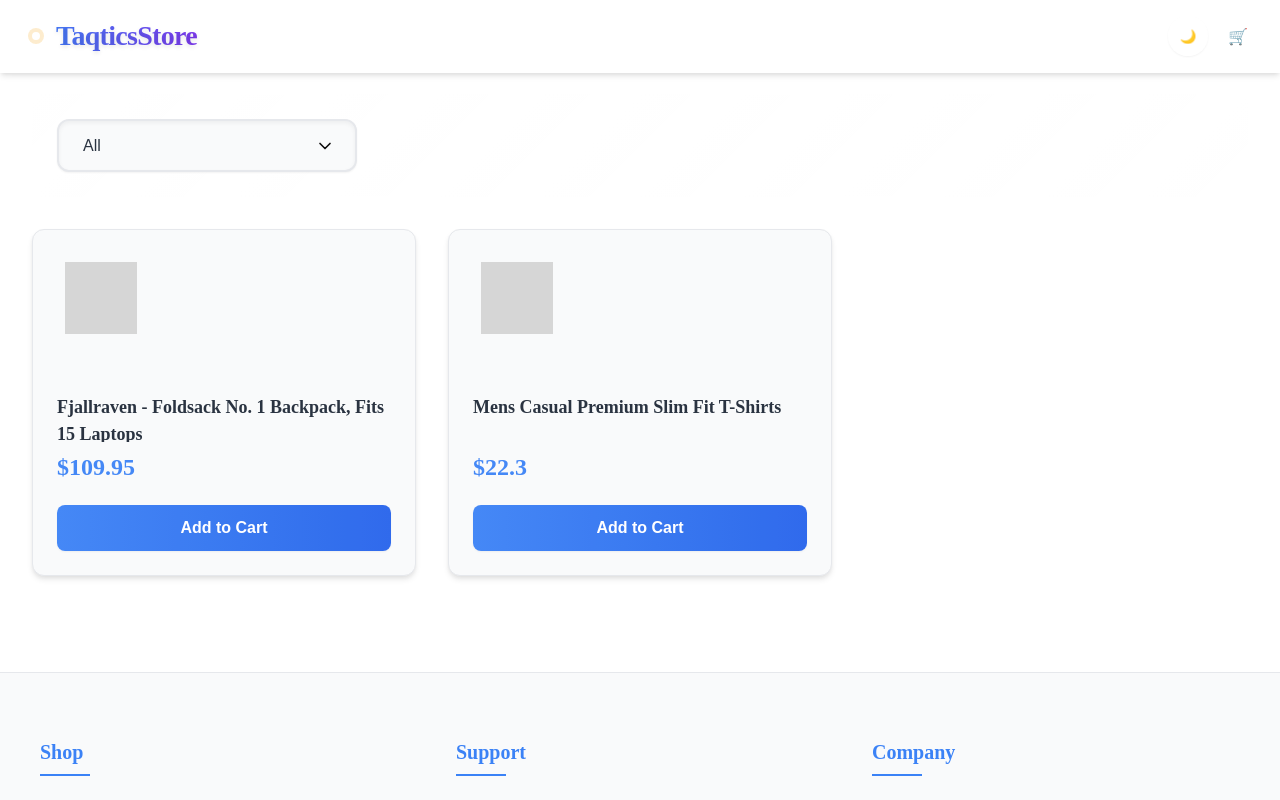
Test: App Component › can add a product to the cart
The image size is (1280, 800).
expect the heading "Fjallraven - Foldsack No. 1 Backpack, Fits 15 Laptops" is shown: met, box [57,394,391,442]
Click the button "Add to Cart" below "109.95": (224, 528) [57,505,391,551]
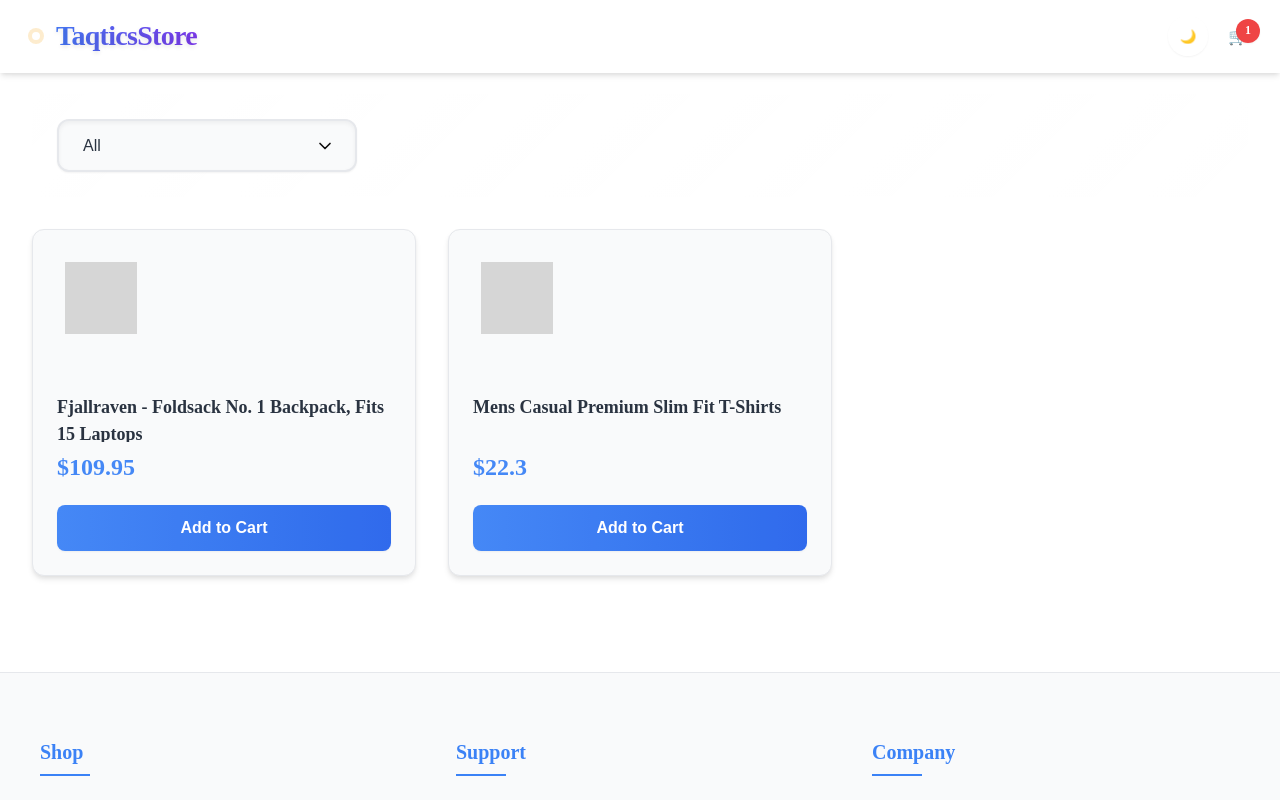
Click the element with test id "cart-button": (1238, 36) [1228,26,1248,46]
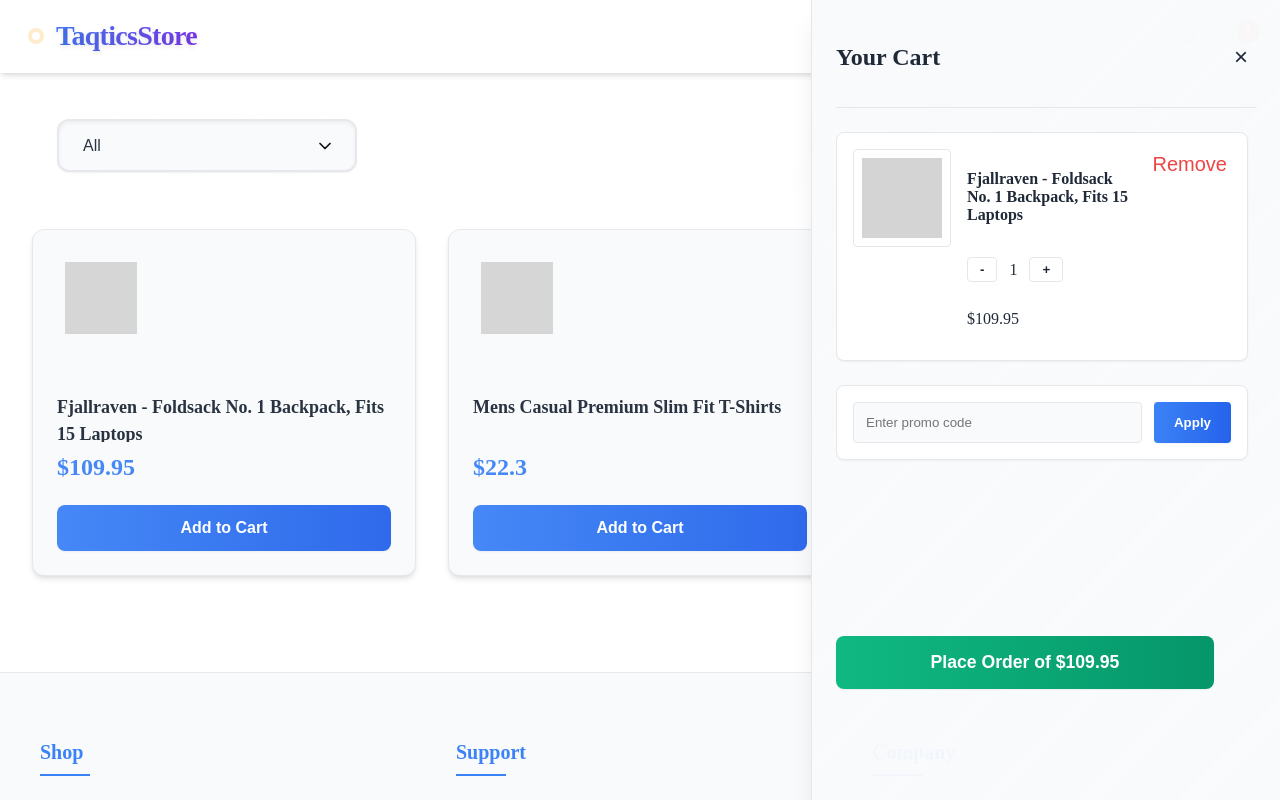
expect the heading "Fjallraven - Foldsack No. 1 Backpack, Fits 15 Laptops" below "Your Cart" is shown: met, box [967,170,1128,223]
